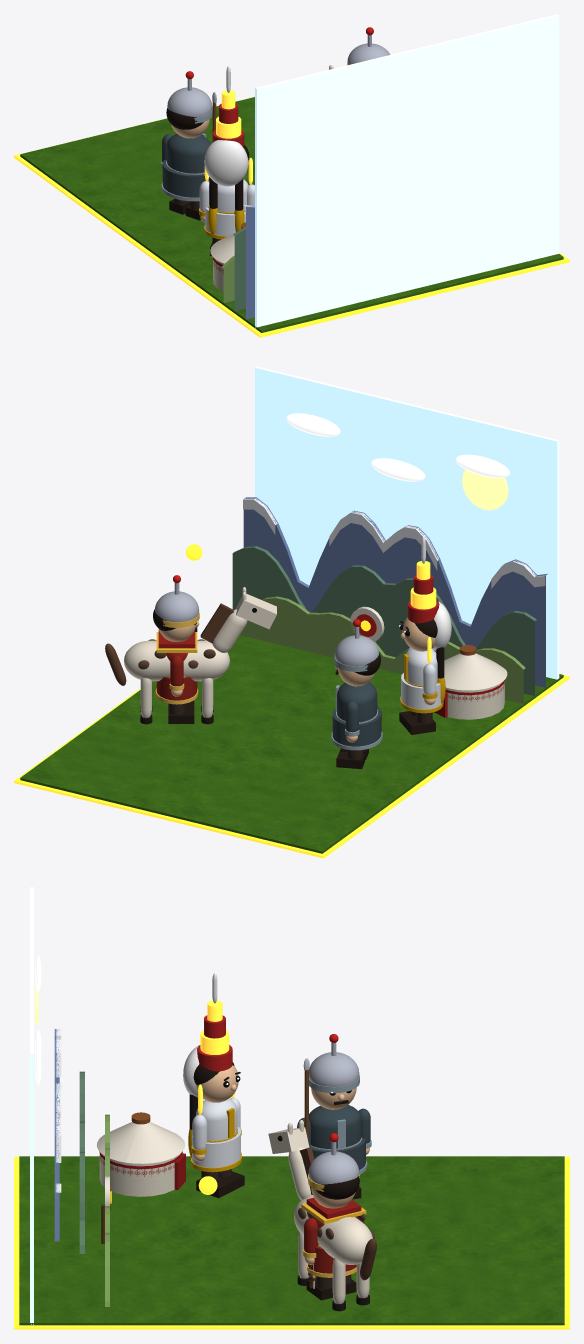
The picture shows the model from 3 angles, top to bottom: view 1: azimuth 30°, elevation 25°; view 2: azimuth 150°, elevation 25°; view 3: azimuth 270°, elevation 25°; orthographic projection. The views are drawn at different scales.
Parts seen in each view (by area): view 1: Аспан, Жер, Жиек, Torso (×2), Veil, Helmet (×2), Skirt (×2), Алыс жота, Орта жота, Жақын төбе, Күмбез, Hair (+1 smaller); view 2: Жер, Аспан, Алыс жота, Орта жота, Жақын төбе, Torso (×3), Жиек, Бұлт (×3), Қар, Skirt (×3), Helmet (×2), Күмбез (+5 smaller); view 3: Жер, Torso (×3), Жиек, Helmet (×2), Күмбез, Кереге, Аспан, Face (×2), Орта жота, Skirt, Алыс жота, Қар (+7 smaller).
Part boxes in pixels (x1,y1,x2,y2): Аспан: (255, 14, 559, 328); Жер: (20, 97, 563, 332); Жиек: (14, 98, 569, 337); Torso (×2): (167, 134, 248, 212); Veil: (204, 140, 248, 186); Helmet (×2): (167, 43, 390, 117); Skirt (×2): (162, 160, 245, 236); Алыс жота: (246, 206, 254, 319); Орта жота: (233, 227, 245, 311); Жақын төбе: (221, 255, 234, 302); Күмбез: (210, 234, 234, 263); Hair: (166, 108, 203, 129); Жер: (20, 635, 563, 853); Аспан: (255, 366, 559, 679); Алыс жота: (243, 497, 547, 687); Орта жота: (232, 546, 536, 695); Жақын төбе: (240, 596, 525, 704); Torso (×3): (124, 640, 437, 722); Жиек: (14, 640, 569, 858); Бұлт (×3): (286, 413, 509, 481); Қар: (243, 498, 545, 588); Skirt (×3): (156, 673, 441, 746); Helmet (×2): (154, 591, 379, 666); Күмбез: (444, 653, 507, 690); Жер: (19, 1156, 564, 1325); Torso (×3): (196, 1099, 372, 1264); Жиек: (14, 1156, 569, 1329); Helmet (×2): (308, 1052, 359, 1184); Күмбез: (96, 1122, 185, 1163); Кереге: (99, 1153, 180, 1196); Аспан: (30, 887, 33, 1324); Face (×2): (196, 1065, 356, 1109); Орта жота: (79, 1071, 84, 1253); Skirt: (192, 1127, 240, 1167); Алыс жота: (54, 1029, 59, 1241); Қар: (56, 1029, 61, 1192).
Size of the model in its own units: 0.9635 by 0.763 by 1.33.
46 materials, 2 textured.
